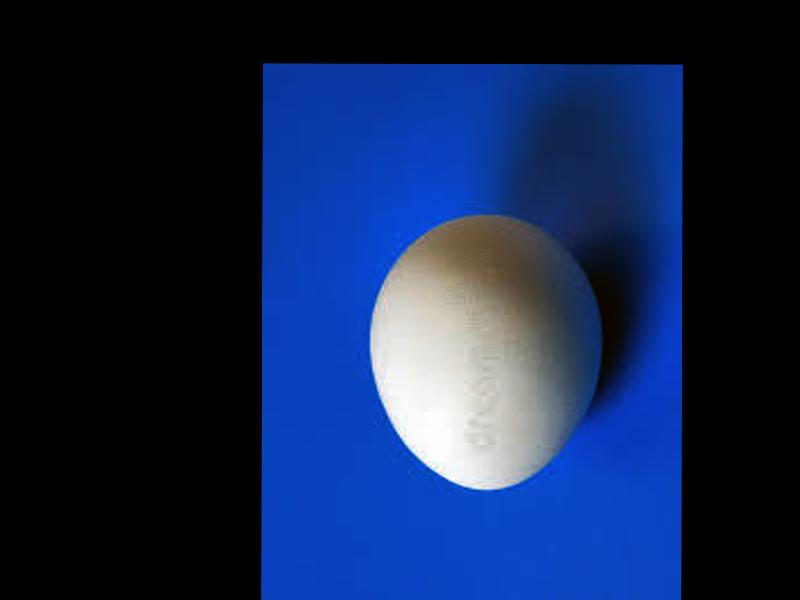Eggs: (369, 212, 604, 493)
